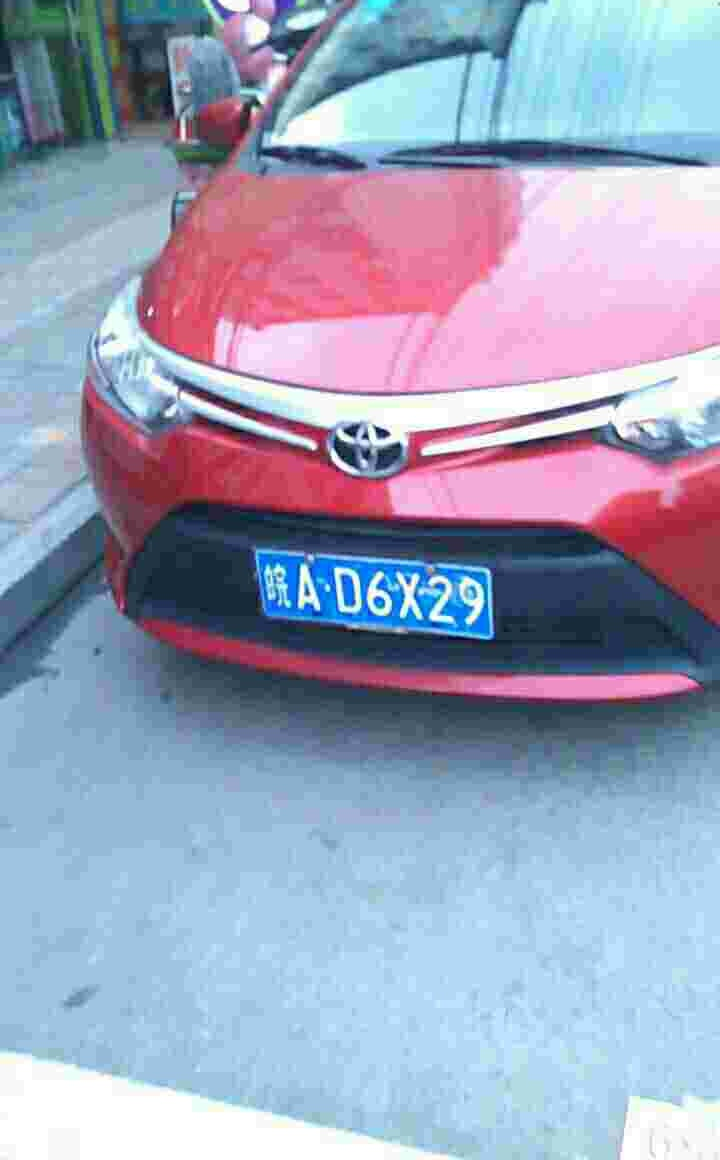plate: (254, 544, 501, 642)
